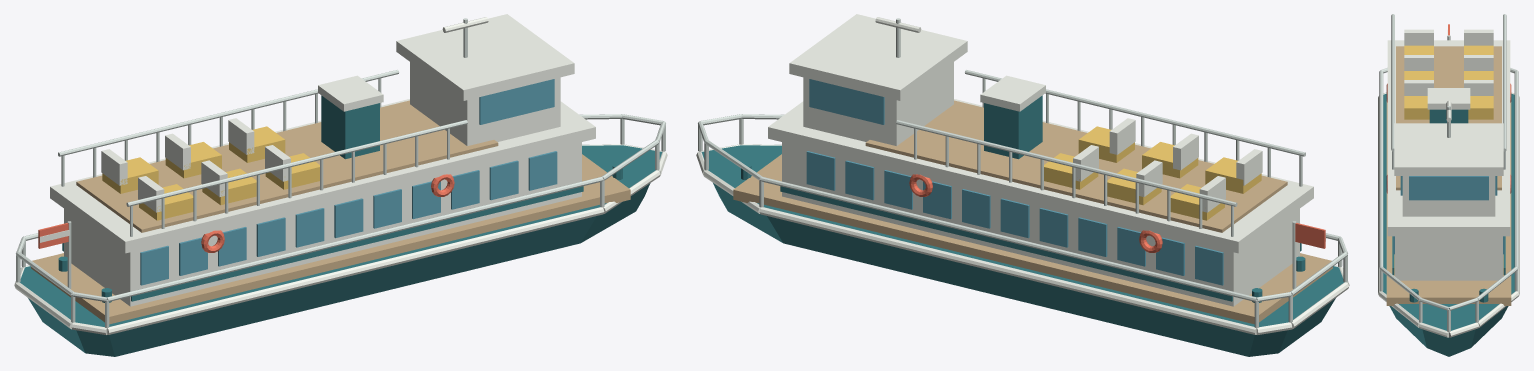
File: riverboat.glb
3 views of the same model, side by side, from view 1: azimuth 30°, elevation 25°; view 2: azimuth 150°, elevation 25°; view 3: azimuth 270°, elevation 25° (orthographic). The views are drawn at different scales.
Visible parts, largest first — view 1: Cruise hull, Passenger salon, Sun deck timber, Promenade deck rim, Main deck, Wheelhouse roof, Wheelhouse, White rubbing strake, Main deck railing, Teal side stripe, Teal funnel, Bridge side glass (+27 smaller); view 2: Cruise hull, Passenger salon, Sun deck timber, Promenade deck rim, Main deck, Wheelhouse roof, Wheelhouse, White rubbing strake.005, Main deck railing.005, Teal side stripe.001, Teal funnel, Bridge side glass.001 (+28 smaller); view 3: Wheelhouse roof, Promenade deck rim, Passenger salon, Cruise hull, Main deck, Sun deck timber, Forward windscreen, Wheelhouse, Main deck railing, Main deck railing.005, Funnel cap, Sun deck seat.002 (+24 smaller).
Part boxes in pixels (x1,y1,x2,y2): Cruise hull: [19, 145, 662, 356]; Passenger salon: [64, 142, 581, 306]; Sun deck timber: [76, 100, 498, 232]; Promenade deck rim: [50, 99, 595, 253]; Main deck: [31, 154, 630, 324]; Wheelhouse roof: [396, 14, 574, 100]; Wheelhouse: [410, 62, 560, 145]; White rubbing strake: [107, 207, 604, 334]; Main deck railing: [107, 176, 603, 301]; Teal side stripe: [131, 186, 583, 301]; Teal funnel: [321, 95, 379, 159]; Bridge side glass: [479, 79, 554, 124]; Cruise hull: [701, 145, 1344, 356]; Passenger salon: [782, 142, 1299, 306]; Sun deck timber: [865, 100, 1287, 232]; Promenade deck rim: [768, 99, 1313, 253]; Main deck: [733, 154, 1332, 324]; Wheelhouse roof: [789, 14, 967, 100]; Wheelhouse: [803, 62, 953, 145]; White rubbing strake.005: [759, 207, 1256, 334]; Main deck railing.005: [760, 176, 1256, 301]; Teal side stripe.001: [780, 186, 1232, 301]; Teal funnel: [984, 95, 1042, 159]; Bridge side glass.001: [809, 79, 884, 124]; Wheelhouse roof: [1394, 123, 1503, 175]; Promenade deck rim: [1387, 40, 1510, 236]; Passenger salon: [1395, 236, 1502, 280]; Cruise hull: [1382, 93, 1515, 356]; Main deck: [1386, 102, 1511, 305]; Sun deck timber: [1396, 46, 1501, 190]; Forward windscreen: [1409, 176, 1488, 200]; Wheelhouse: [1402, 176, 1495, 216]; Main deck railing: [1379, 70, 1383, 268]; Main deck railing.005: [1514, 70, 1518, 268]; Funnel cap: [1427, 88, 1470, 109]; Sun deck seat.002: [1404, 96, 1429, 119].
Size of the model in its own units: 7.92 by 2.66 by 1.91.
